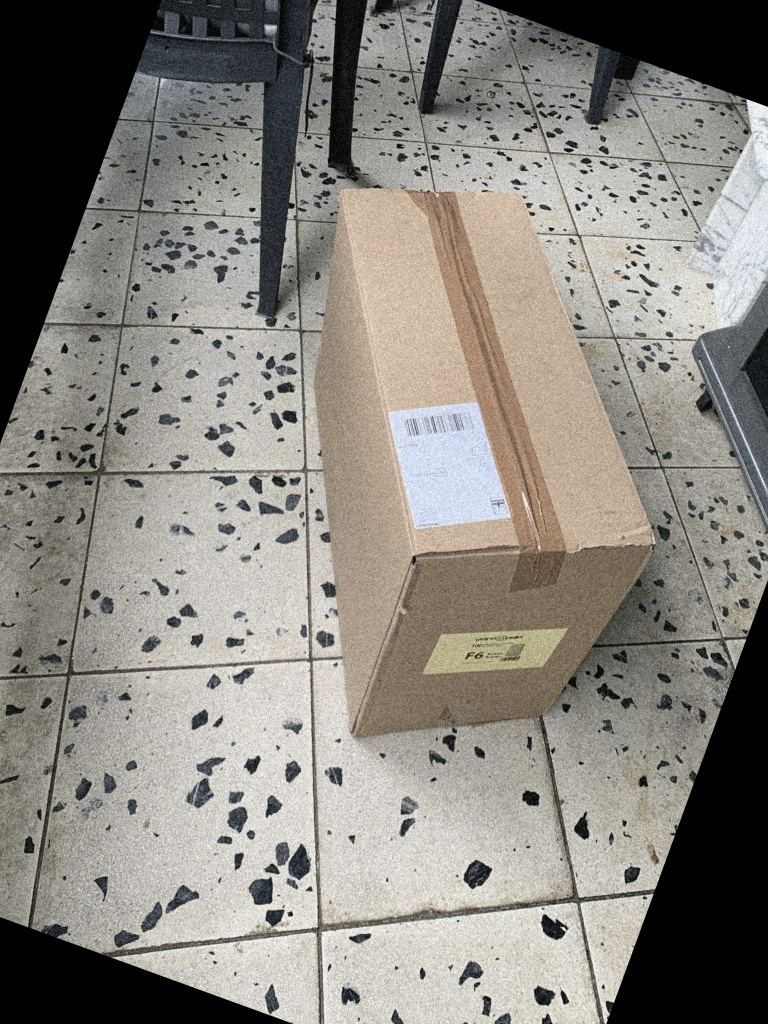good-parcel: (311, 174, 662, 763)
